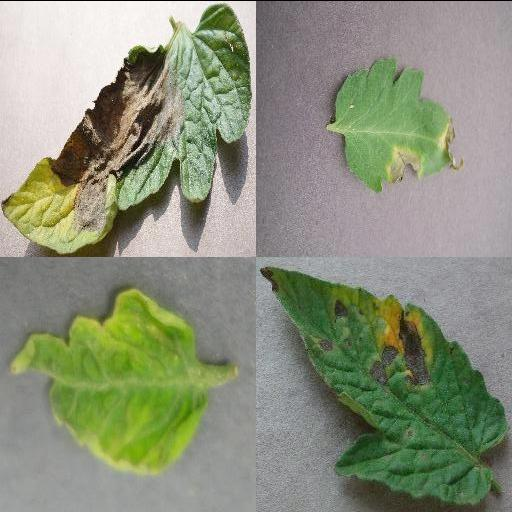Early Blight: (258, 263, 510, 506)
Late Blight: (0, 3, 251, 253), (335, 55, 463, 189)
Yellow Leaf Curl Virus: (11, 286, 209, 474)
